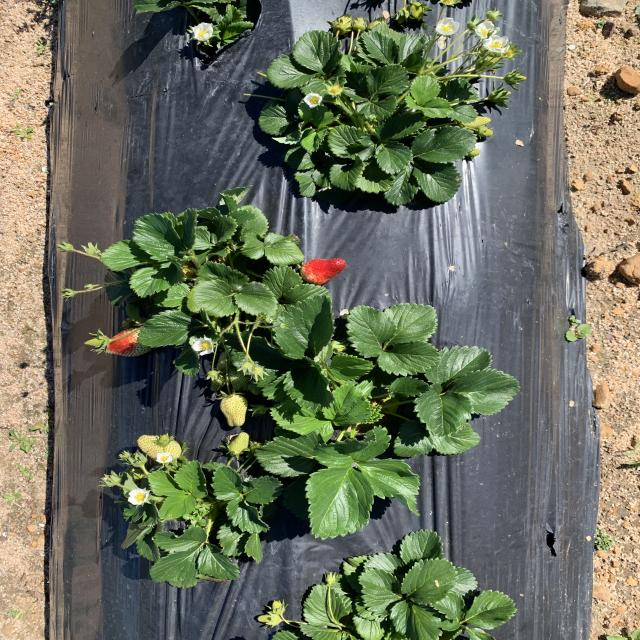unripe: (304, 255, 346, 284)
